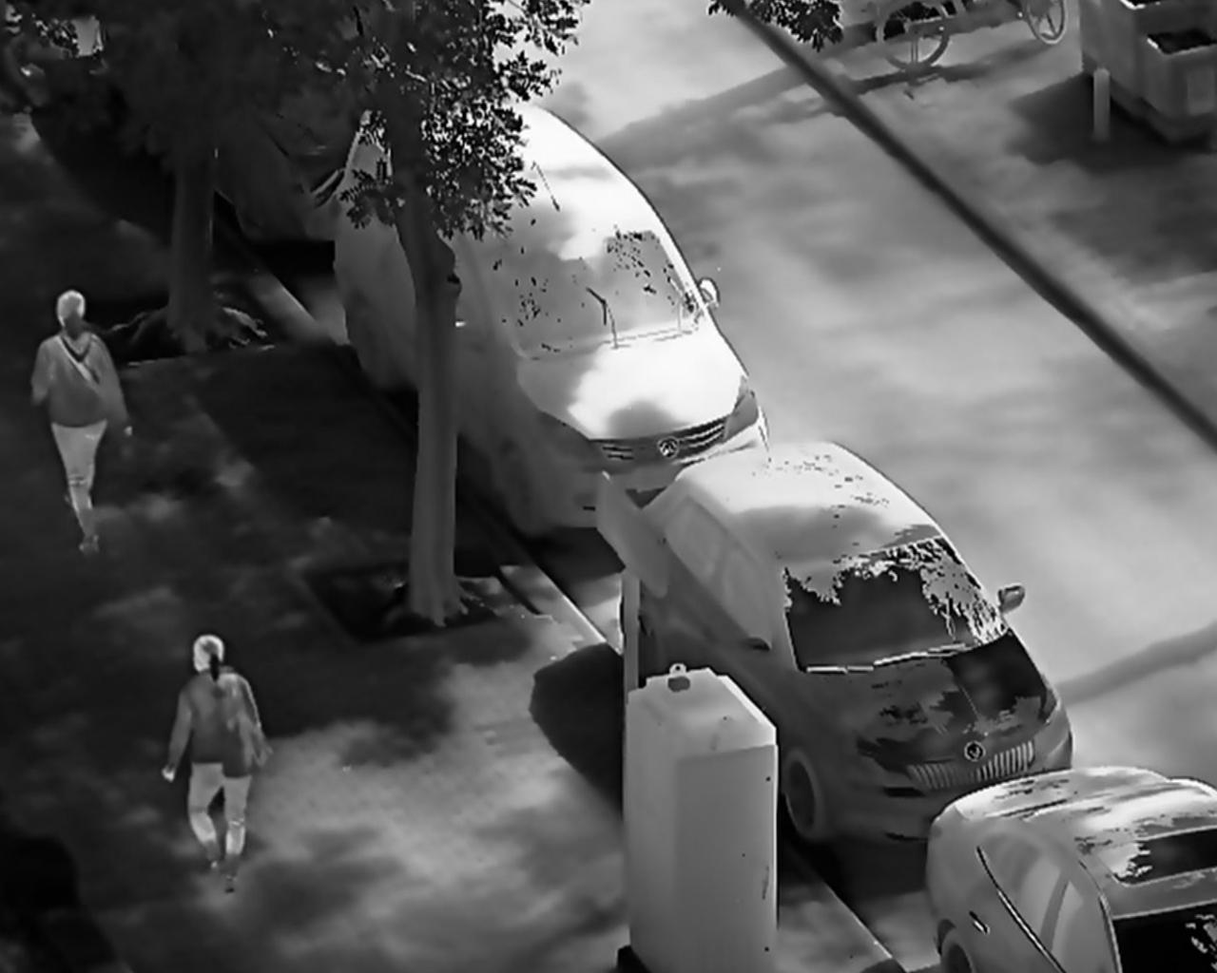person: (157, 629, 276, 898), (27, 287, 138, 558)
